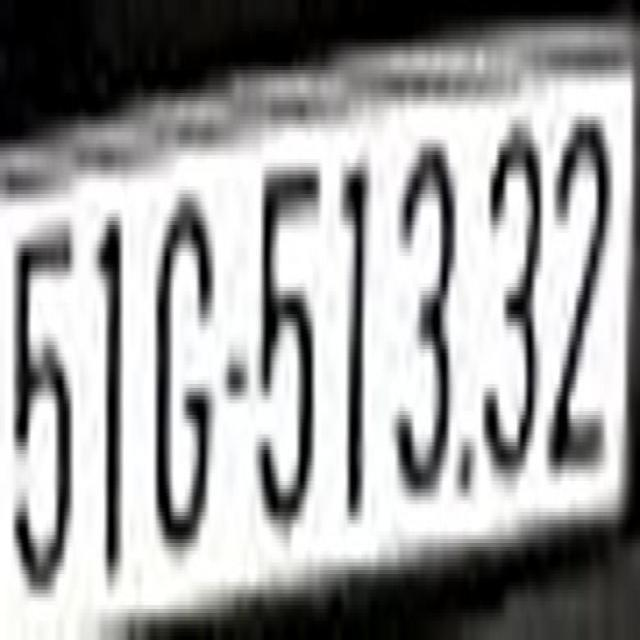1: (332, 140, 367, 548), (90, 218, 127, 598)
2: (546, 78, 616, 496)
3: (481, 108, 544, 516), (396, 120, 453, 516)
5: (256, 124, 320, 547), (10, 217, 79, 601)
G: (152, 178, 212, 586)
